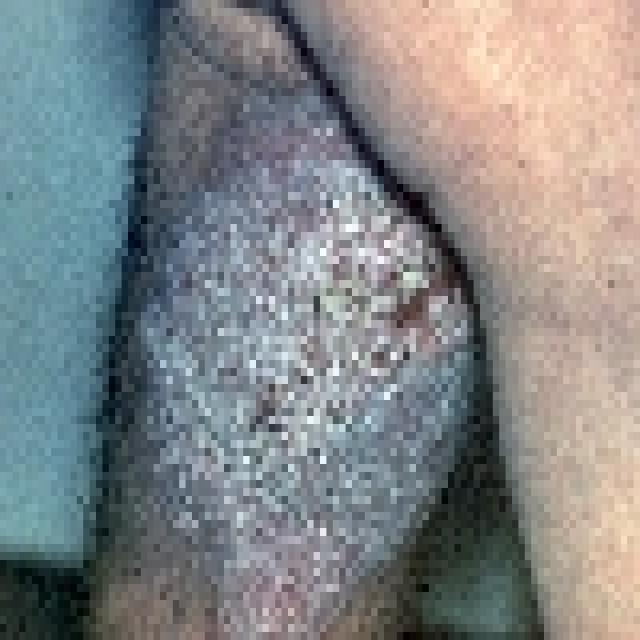lupus: (151, 124, 461, 626)
